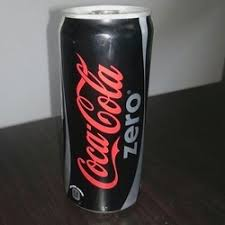coke-can-zero: (62, 6, 159, 210)
